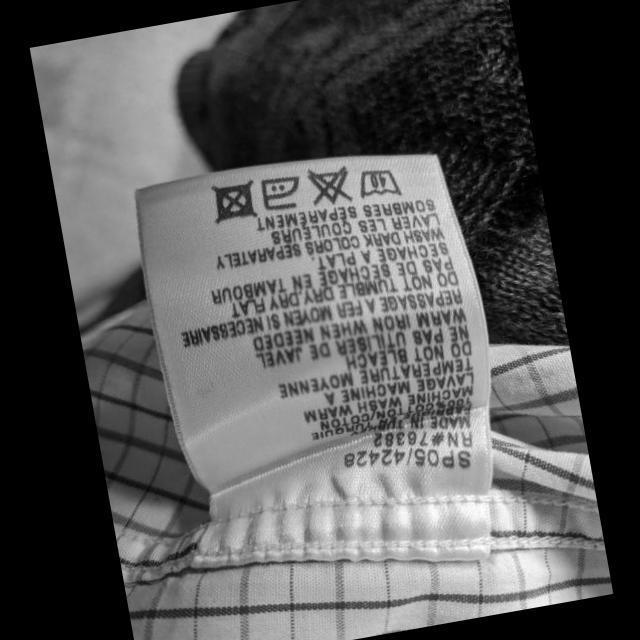40C: (352, 160, 403, 204)
DN_bleach: (300, 158, 356, 213)
DN_tumble_dry: (204, 174, 260, 227)
iron_medium: (254, 168, 304, 216)
